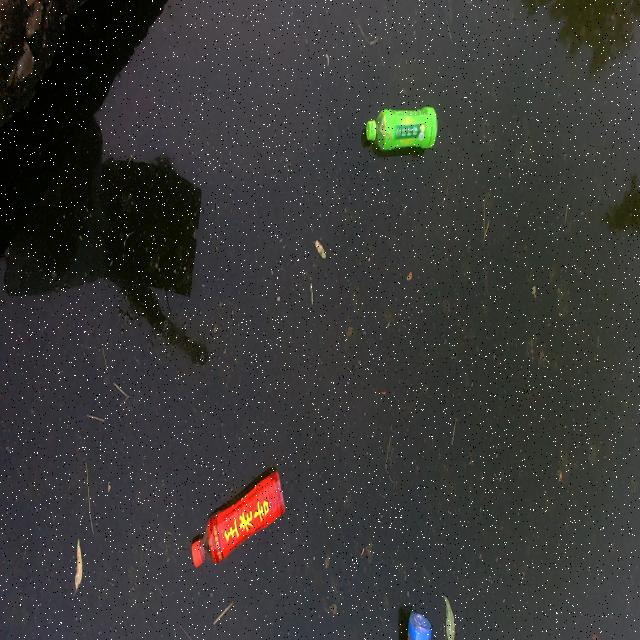Bottle: (186, 462, 289, 568), (362, 101, 440, 161)
